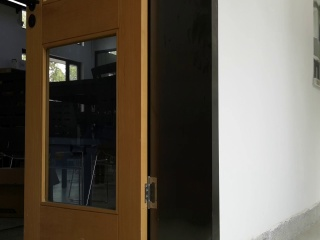room: (3, 1, 225, 238)
